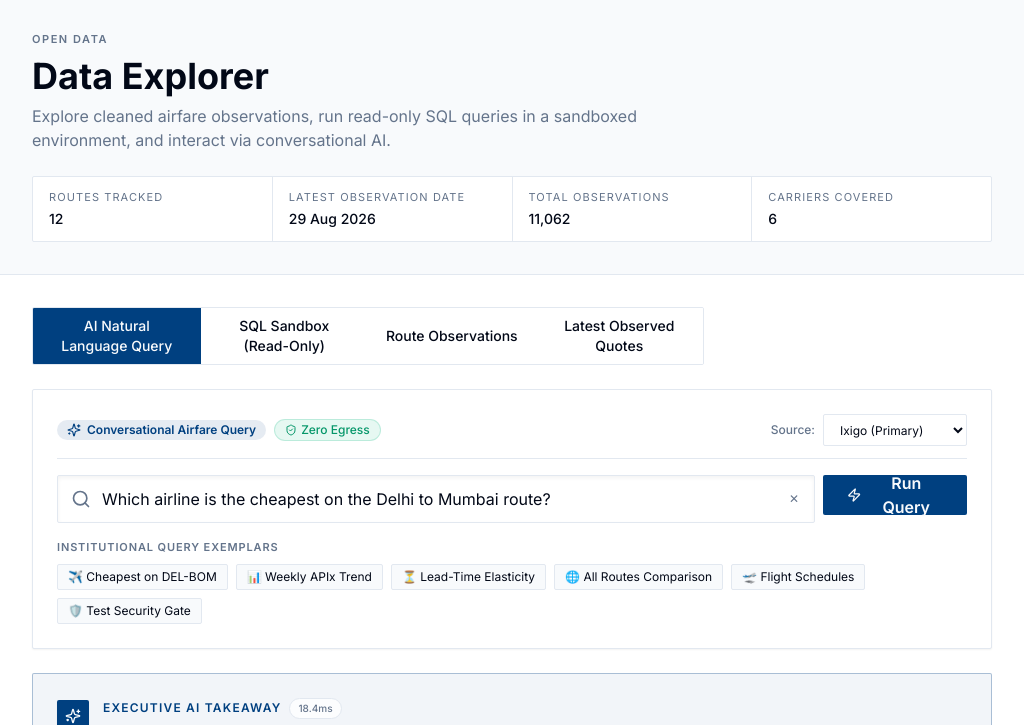
Scenario: DataExplorer Page with Integrated AI Query & SQL Sandbox › executes NLQ query when clicking Run Query button
The image size is (1024, 725).
Expected: the button "Run Query" is shown, x1=823 y1=475 x2=967 y2=515
Replace the text in the field with placeholder "Ask anything" with "Compare average fares on all routes": (436, 499) x1=57 y1=475 x2=815 y2=523
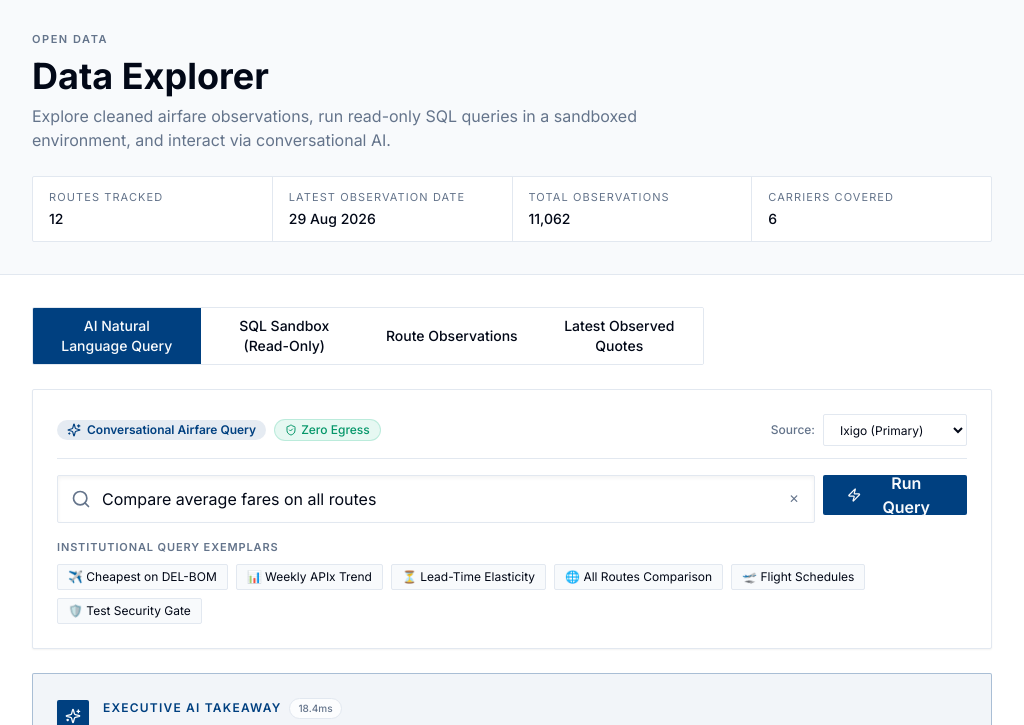
Click the button "Run Query": (895, 495) x1=823 y1=475 x2=967 y2=515
(page scrolled)
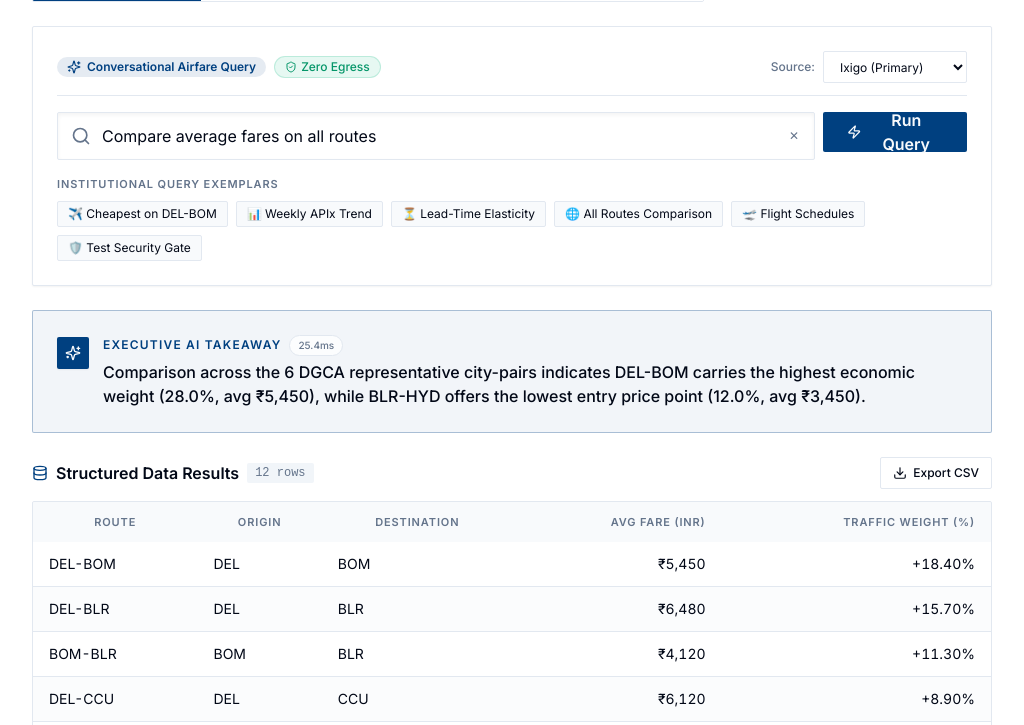
Result: the text "Comparison across the 6 DGCA representative" is shown at x1=103 y1=362 x2=915 y2=406
